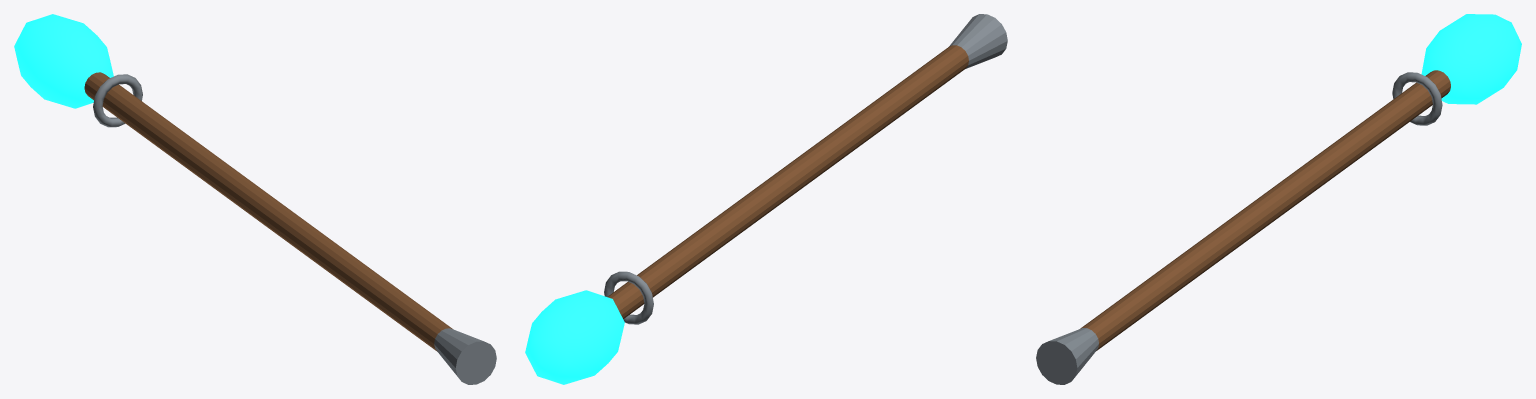
The model's file is WPN_Staff_Elemental_FP_v01.glb.
3 renders of one model, left to right at view 1: azimuth 30°, elevation 25°; view 2: azimuth 150°, elevation 25°; view 3: azimuth 330°, elevation 25°, orthographic.
Visible parts, largest first — view 1: MESH_Weapon, MESH_FocusCrystal; view 2: MESH_Weapon, MESH_FocusCrystal; view 3: MESH_Weapon, MESH_FocusCrystal.
Part boxes in pixels (x1,y1,x2,y2): MESH_Weapon: (84,72,496,384); MESH_FocusCrystal: (14,14,113,108); MESH_Weapon: (604,14,1007,324); MESH_FocusCrystal: (525,290,624,384); MESH_Weapon: (1036,70,1450,384); MESH_FocusCrystal: (1421,14,1521,104).
Bounding box in the file's own units: 0.1902 × 0.2 × 2.07.
